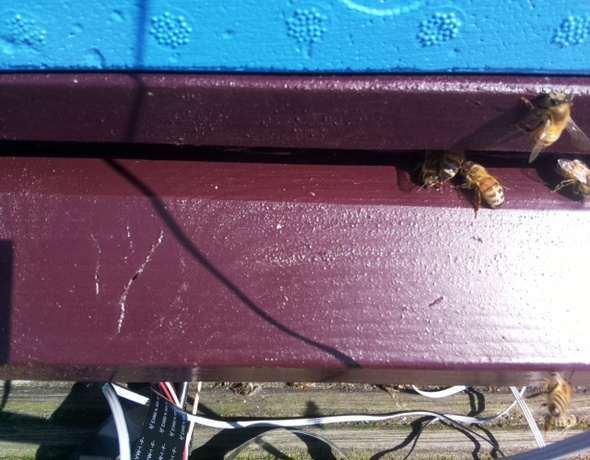no_pollen: (526, 87, 581, 156), (456, 157, 508, 211), (541, 371, 575, 422), (553, 158, 590, 198), (416, 147, 445, 193), (436, 143, 466, 183)
